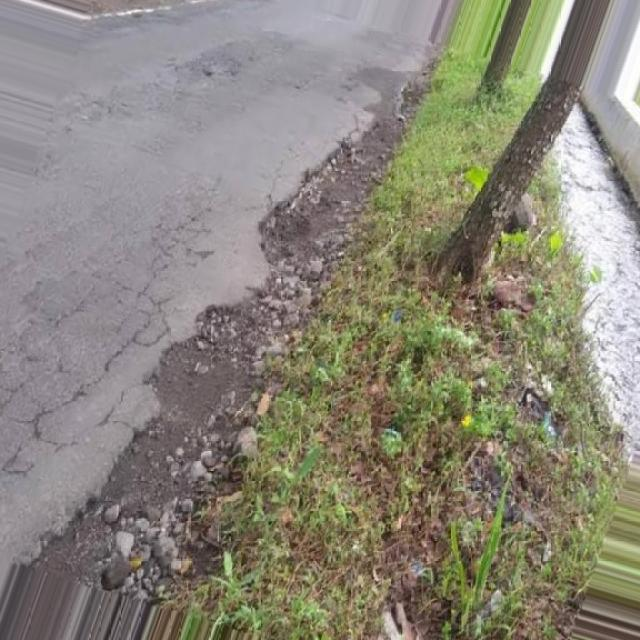Pinggir: (0, 120, 415, 630)
